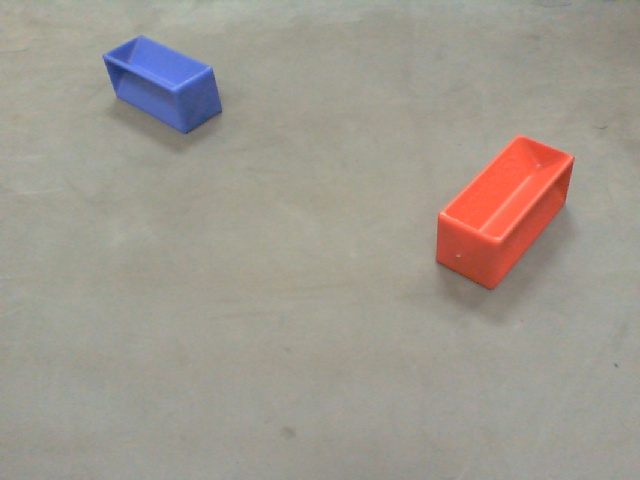BlueSample: (99, 34, 223, 140)
RedSample: (432, 132, 577, 289)
